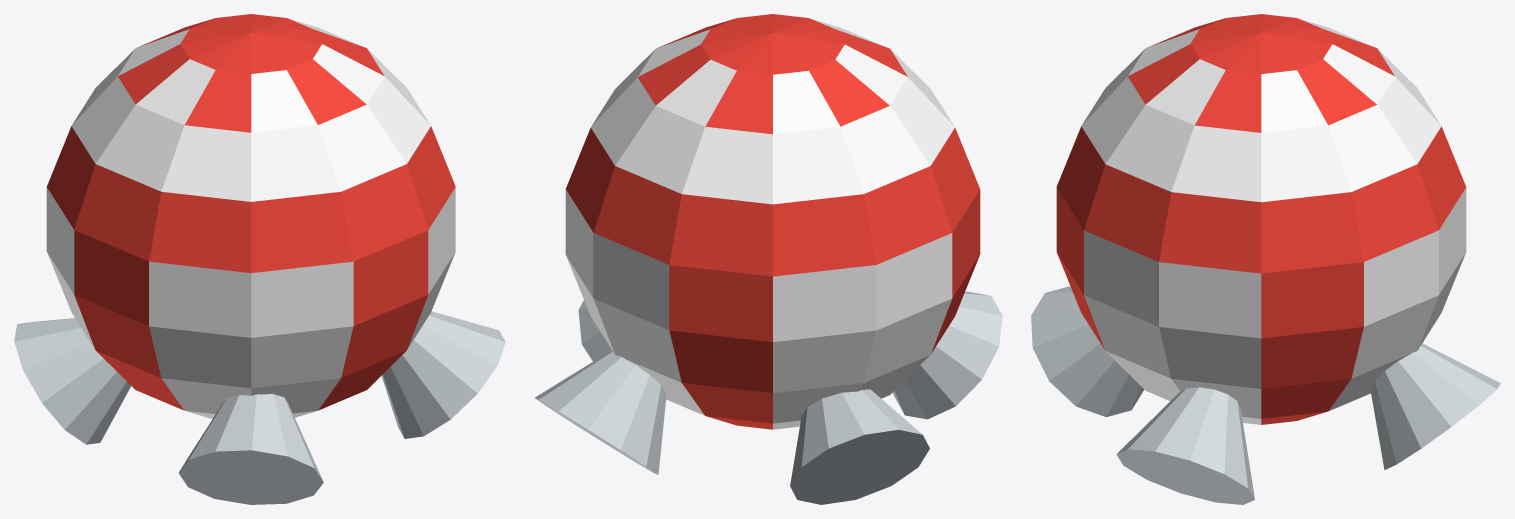
The picture shows the model from 3 angles, left to right: view 1: azimuth 30°, elevation 25°; view 2: azimuth 150°, elevation 25°; view 3: azimuth 270°, elevation 25°; orthographic projection.
Parts seen in each view (by area): view 1: mesh_1079698482, mesh_27368707, mesh_2078791386, mesh_1015820879; view 2: mesh_1079698482, mesh_1015820879, mesh_1458263932, mesh_27368707, mesh_2078791386; view 3: mesh_1079698482, mesh_2078791386, mesh_1458263932, mesh_27368707.
Part boxes in pixels (box(x1,y1,x2,y2)): mesh_1079698482: box(46, 14, 455, 418); mesh_27368707: box(178, 394, 323, 504); mesh_2078791386: box(381, 311, 505, 438); mesh_1015820879: box(14, 318, 130, 444); mesh_1079698482: box(565, 14, 980, 429); mesh_1015820879: box(790, 389, 929, 504); mesh_1458263932: box(534, 350, 666, 474); mesh_27368707: box(892, 291, 1002, 419); mesh_2078791386: box(578, 300, 611, 361); mesh_1079698482: box(1056, 14, 1466, 424); mesh_2078791386: box(1116, 387, 1254, 504); mesh_1458263932: box(1370, 343, 1500, 469); mesh_27368707: box(1031, 286, 1144, 417).
Size of the model in its own units: 25.39 by 24.76 by 25.74.
